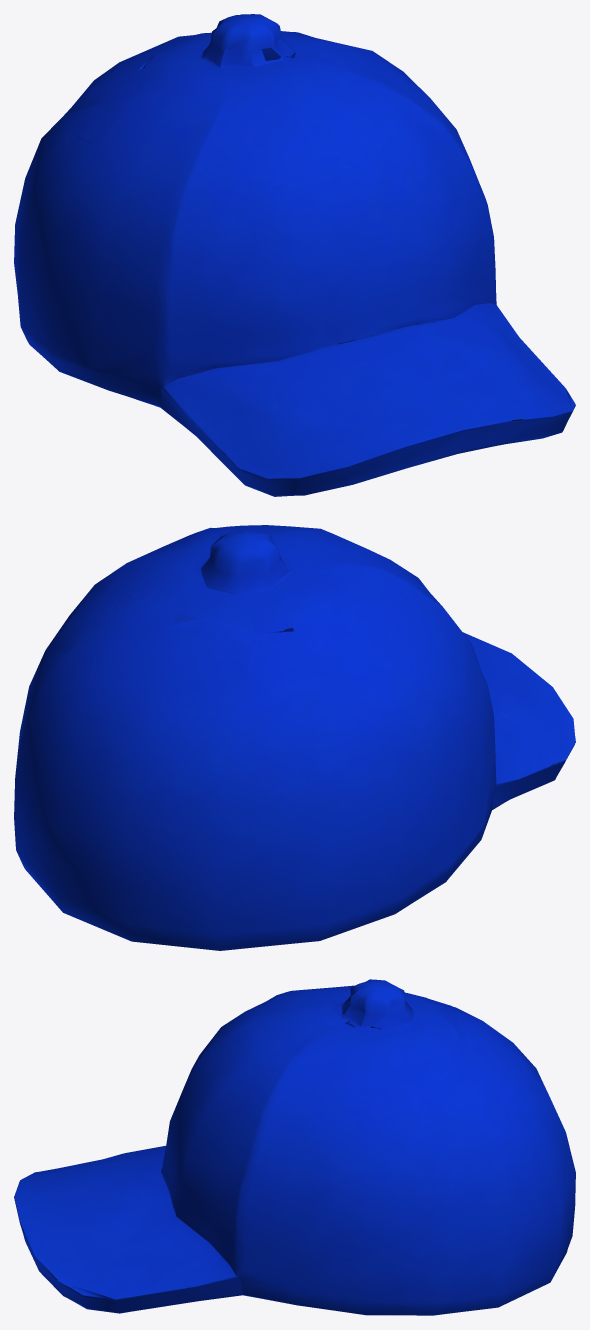
Rendered from baseball_cap.glb.
The picture shows the model from 3 angles, top to bottom: view 1: azimuth 30°, elevation 25°; view 2: azimuth 150°, elevation 25°; view 3: azimuth 270°, elevation 25°; orthographic projection. The views are drawn at different scales.
Visible parts, largest first — view 1: geometry_0; view 2: geometry_0; view 3: geometry_0.
Part boxes in pixels (left/top/right/bottom): geometry_0: left=14, top=14, right=575, bottom=496; geometry_0: left=14, top=525, right=575, bottom=950; geometry_0: left=14, top=979, right=575, bottom=1315.
Size of the model in its own units: 0.6626 by 0.5059 by 0.9575.
1 material, 1 textured.
